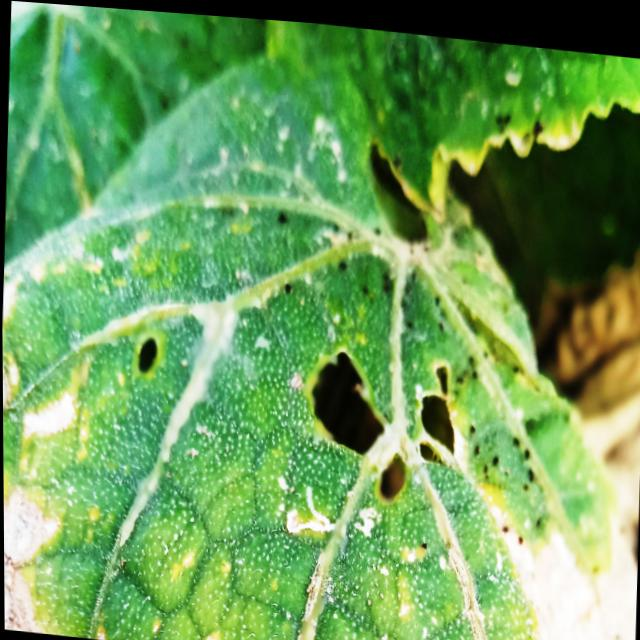Anthracnose: (300, 341, 480, 516), (127, 325, 166, 384)
